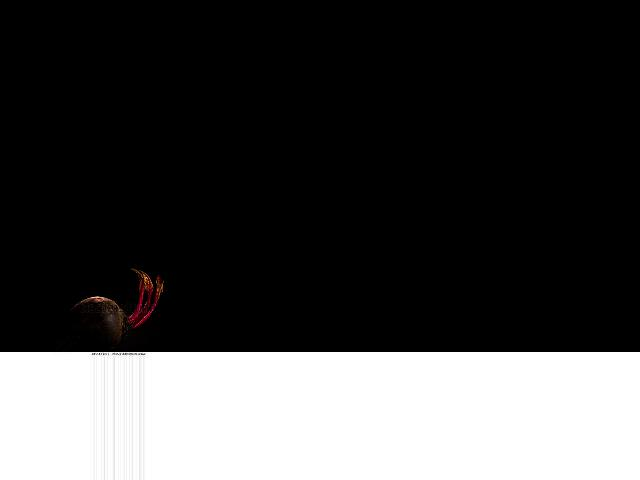beet: (51, 268, 163, 351)
